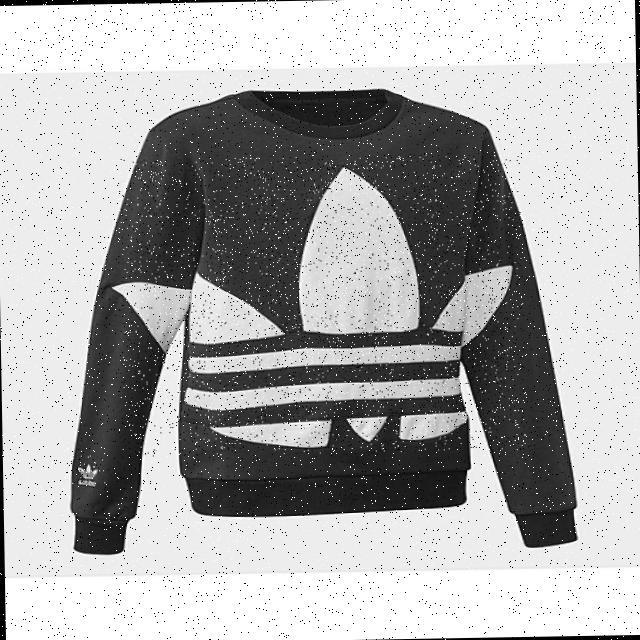Adidas: (116, 152, 525, 457), (64, 454, 107, 486)
